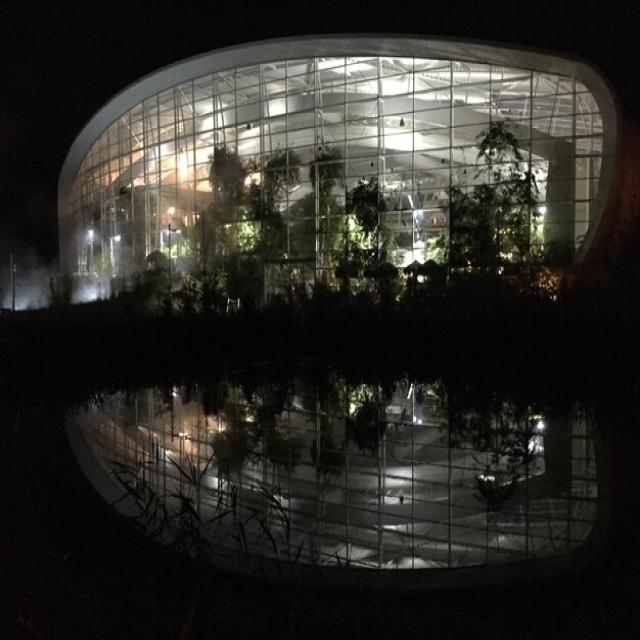lighting: (530, 200, 549, 228), (395, 111, 411, 143), (160, 201, 183, 222), (241, 121, 259, 142), (109, 232, 125, 250), (84, 224, 98, 244), (176, 142, 187, 161)
